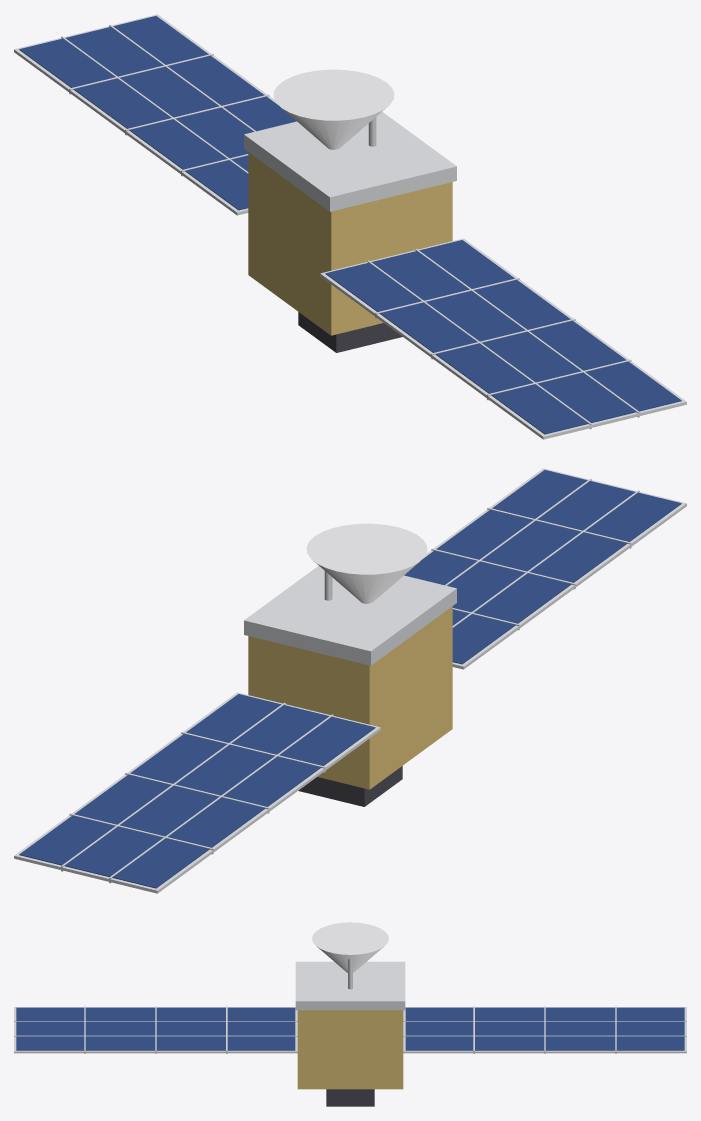
The model's file is generic.glb.
The picture shows the model from 3 angles, top to bottom: view 1: azimuth 30°, elevation 25°; view 2: azimuth 150°, elevation 25°; view 3: azimuth 270°, elevation 25°; orthographic projection. The views are drawn at different scales.
Size of the model in its own units: 2.6 by 4.15 by 16.6.
